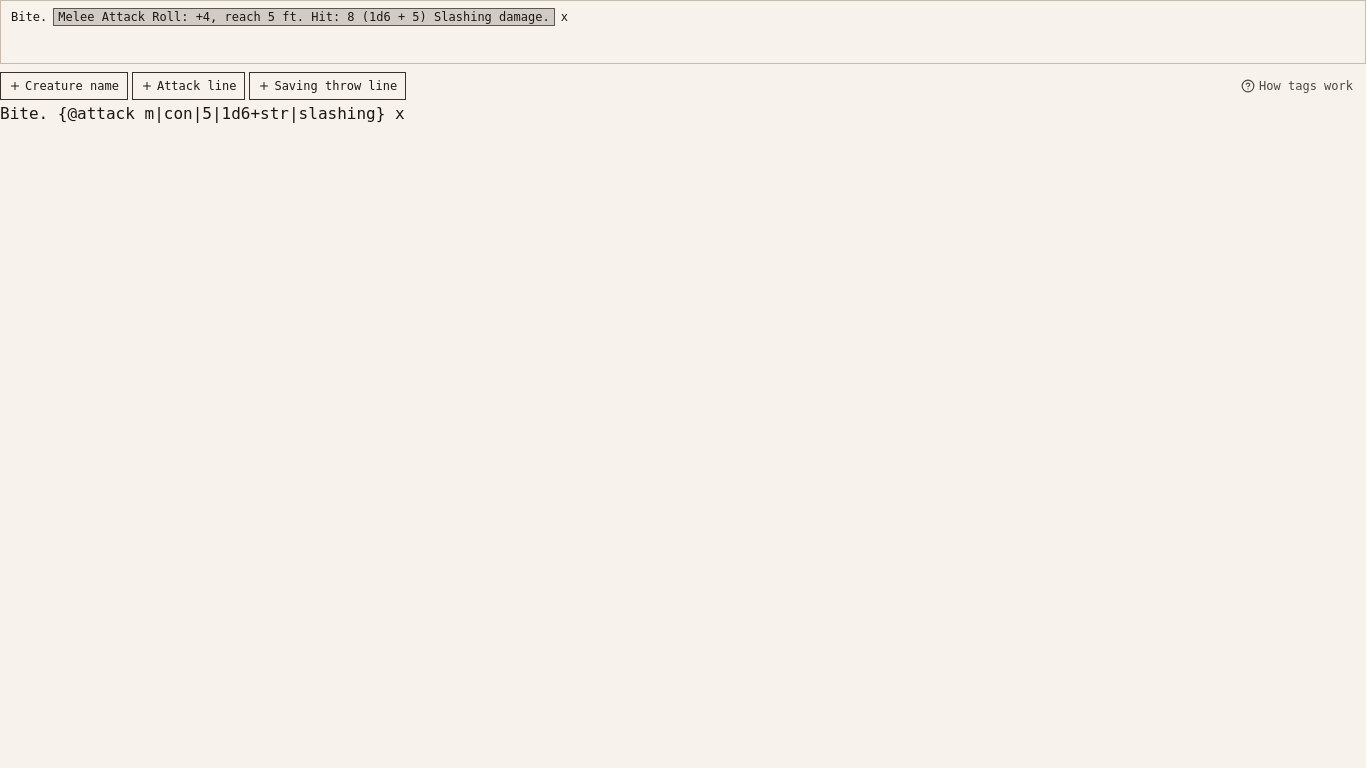
Scenario: MarkupField (CodeMirror) › survives repeated open/close cycles on the same chip
Press the mouse on the text with class "mb-chip" at (304, 17), box [54, 9, 554, 25]
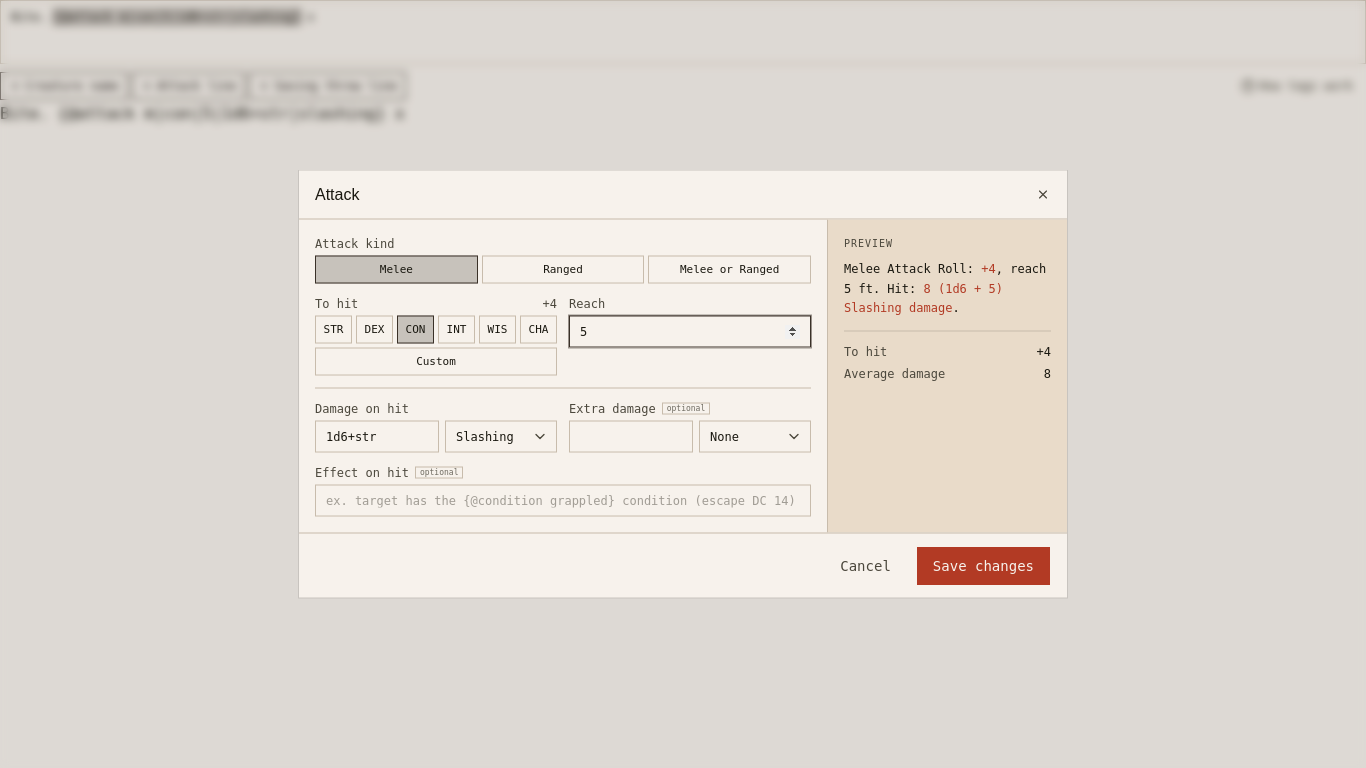
Check: the field named "Damage dice" is shown, box [315, 420, 439, 452]
Click the button named "Close".
click(1043, 194)  # box [1027, 178, 1059, 210]
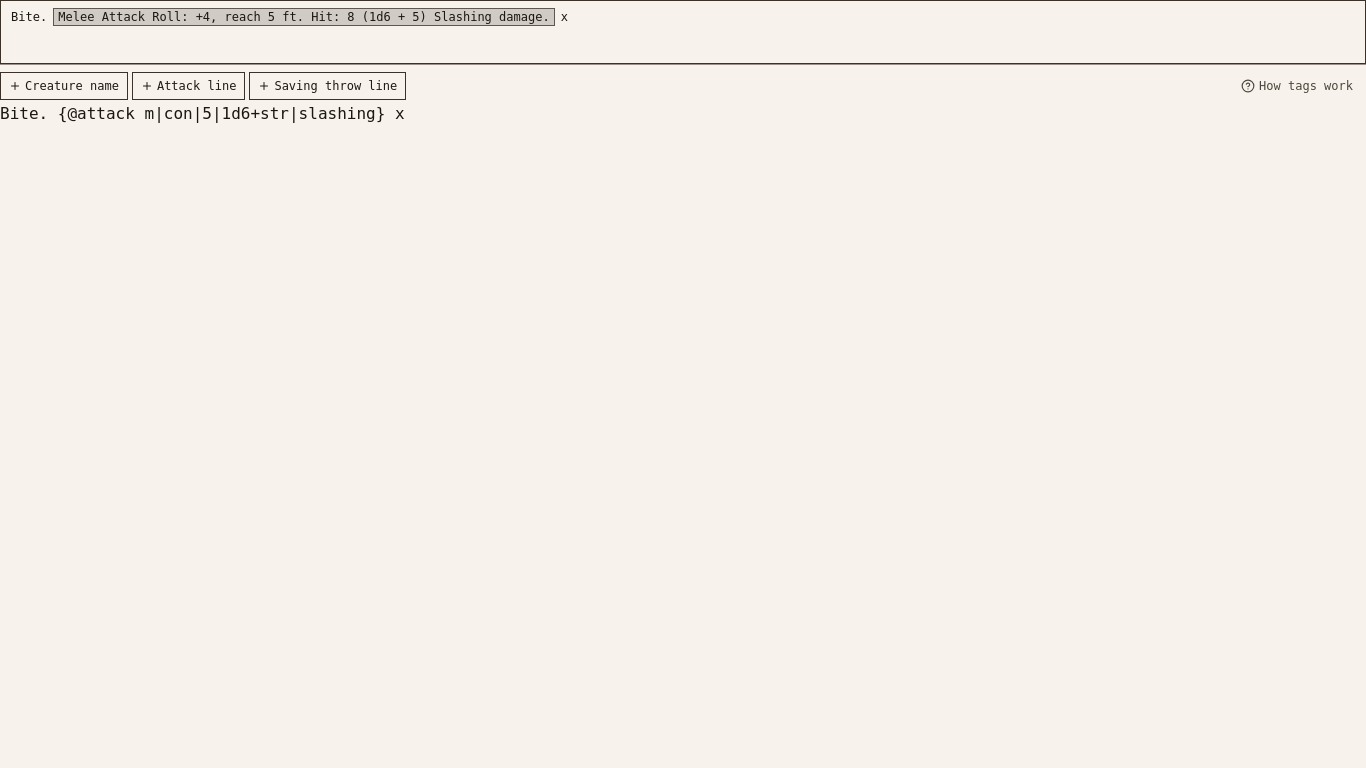
Press the mouse on the text with class "mb-chip" at (304, 17), box [54, 9, 554, 25]
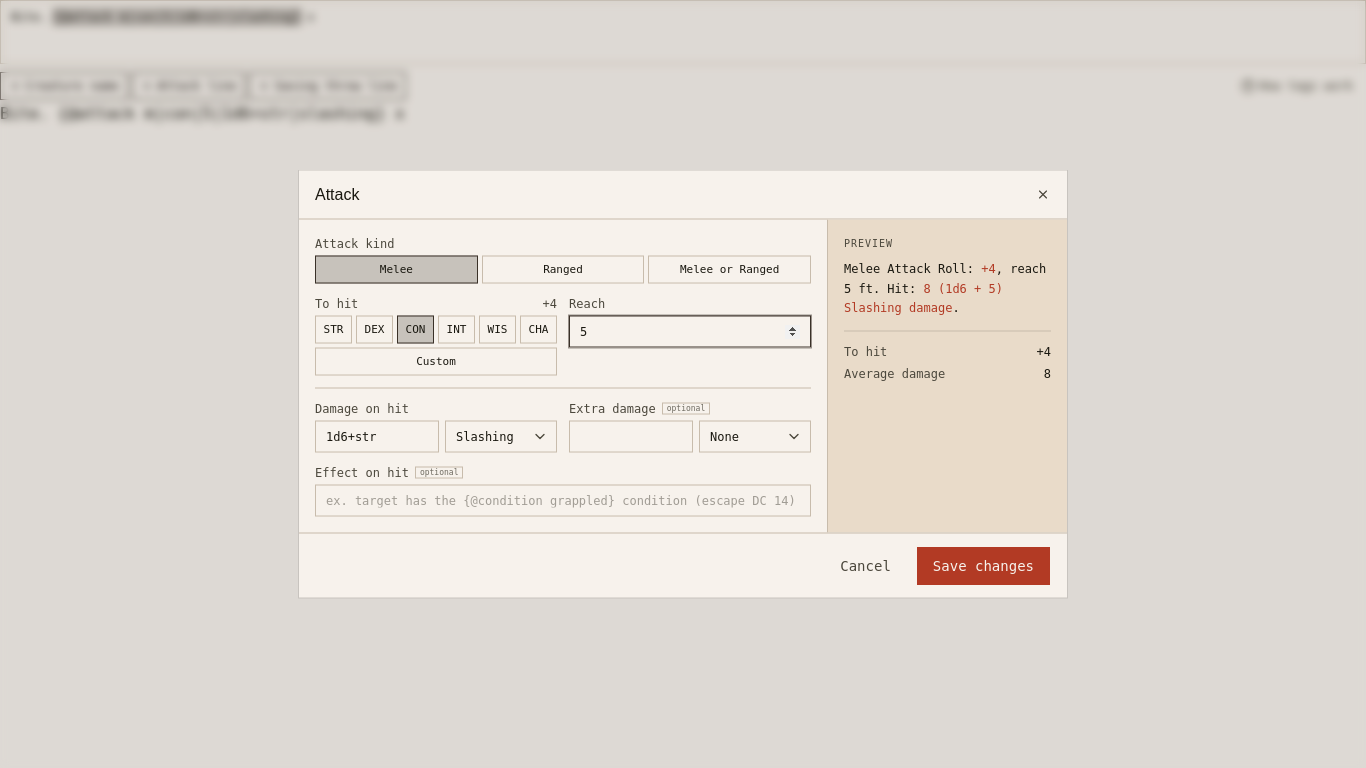
Check: the field named "Damage dice" is shown, box [315, 420, 439, 452]
